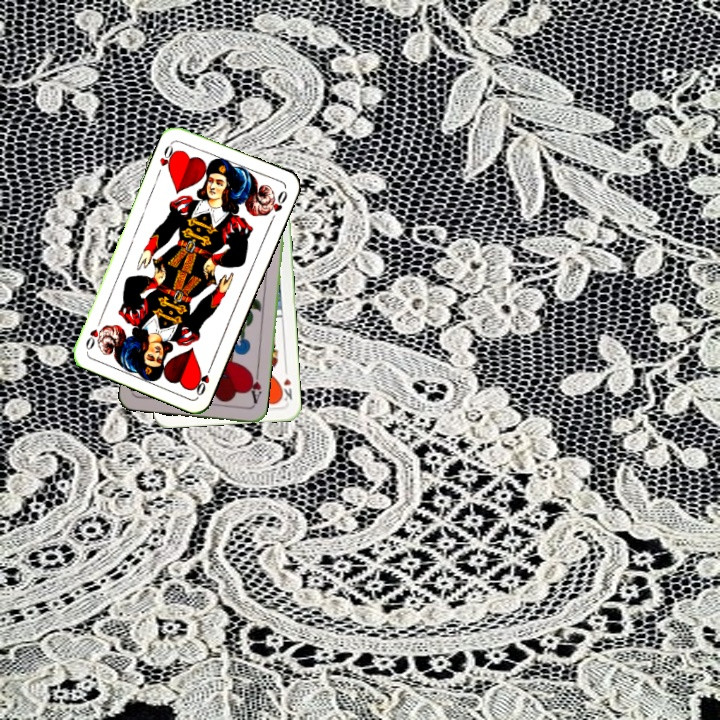HA: (244, 367, 264, 408)
HK: (276, 364, 294, 403)
HO: (190, 360, 215, 398), (156, 139, 180, 174)
